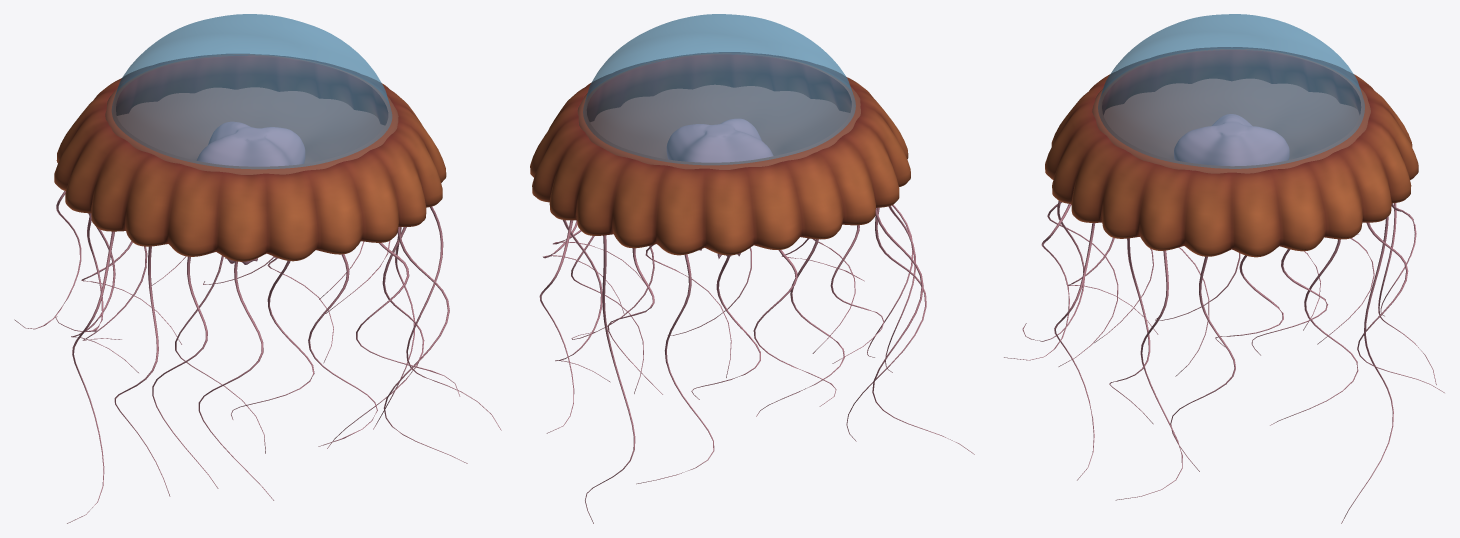
File: Deep Sea Jellyfish.glb
3 renders of one model, left to right at view 1: azimuth 30°, elevation 25°; view 2: azimuth 150°, elevation 25°; view 3: azimuth 270°, elevation 25°, orthographic. The views are drawn at different scales.
Visible parts, largest first — view 1: Crown, Dome, Under, Tentacles, Sealer, Stomach; view 2: Crown, Dome, Under, Tentacles, Sealer, Stomach; view 3: Crown, Dome, Under, Tentacles, Stomach, Sealer.
Part boxes in pixels (x1=…): Crown: x1=54, y1=54, x2=446, y2=261; Dome: x1=111, y1=14, x2=392, y2=169; Under: x1=117, y1=87, x2=384, y2=163; Tentacles: x1=14, y1=191, x2=501, y2=523; Sealer: x1=105, y1=54, x2=398, y2=174; Stomach: x1=197, y1=121, x2=305, y2=264; Crown: x1=530, y1=52, x2=910, y2=255; Dome: x1=583, y1=14, x2=855, y2=165; Under: x1=590, y1=84, x2=849, y2=159; Tentacles: x1=539, y1=204, x2=974, y2=523; Sealer: x1=577, y1=53, x2=860, y2=169; Stomach: x1=666, y1=118, x2=773, y2=258; Crown: x1=1045, y1=47, x2=1418, y2=257; Dome: x1=1098, y1=14, x2=1364, y2=168; Under: x1=1104, y1=78, x2=1359, y2=159; Tentacles: x1=1004, y1=201, x2=1444, y2=523; Stomach: x1=1174, y1=114, x2=1289, y2=166; Sealer: x1=1092, y1=48, x2=1370, y2=173.
Size of the model in its own units: 2.55 by 2.82 by 2.46.
Materials: 6 (1 with a texture image).
